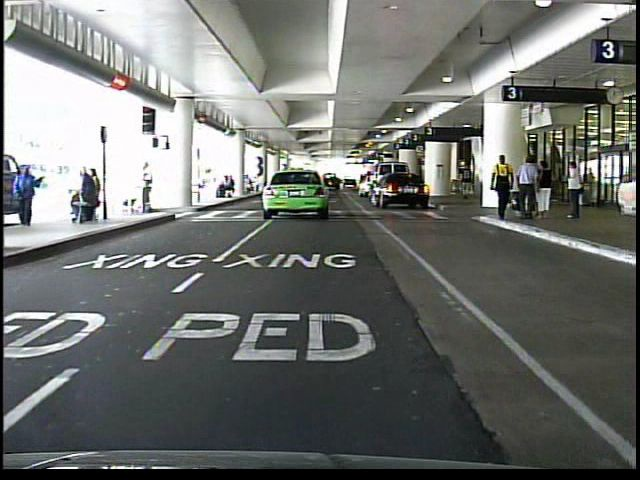person: (16, 160, 50, 225), (486, 151, 515, 226), (561, 158, 591, 228), (130, 160, 159, 222), (517, 150, 537, 226), (536, 159, 552, 223), (457, 160, 478, 205)
